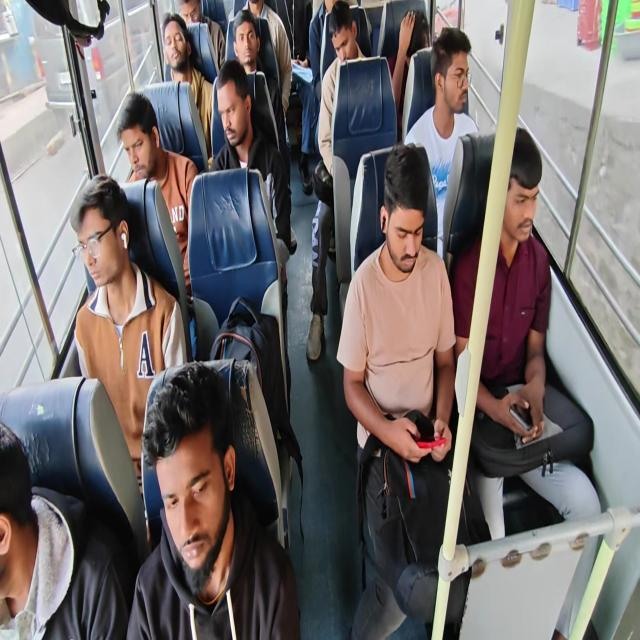person: (130, 383, 264, 640), (67, 178, 158, 410), (0, 415, 84, 639), (154, 17, 206, 123), (116, 96, 171, 186), (276, 0, 318, 106), (317, 5, 369, 88), (398, 8, 450, 90), (219, 66, 263, 160), (226, 11, 264, 87), (306, 0, 367, 34), (180, 0, 211, 45), (238, 0, 275, 32)
